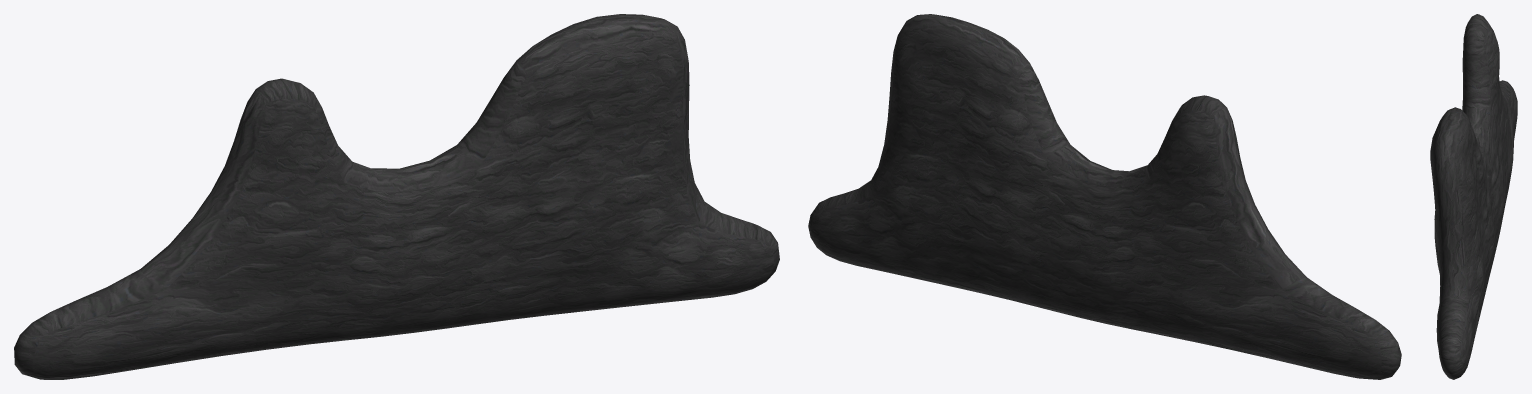
Rendered from RuinWallOne3Shape.dae.
3 renders of one model, left to right at view 1: azimuth 30°, elevation 25°; view 2: azimuth 150°, elevation 25°; view 3: azimuth 270°, elevation 25°, orthographic. The views are drawn at different scales.
Visible parts, largest first — view 1: RuinWallOne3; view 2: RuinWallOne3; view 3: RuinWallOne3.
Part boxes in pixels (x1,y1,x2,y2): RuinWallOne3: [14, 14, 779, 379]; RuinWallOne3: [808, 14, 1401, 379]; RuinWallOne3: [1430, 14, 1517, 379].
Size of the model in its own units: 71.18 by 28.96 by 10.87.
